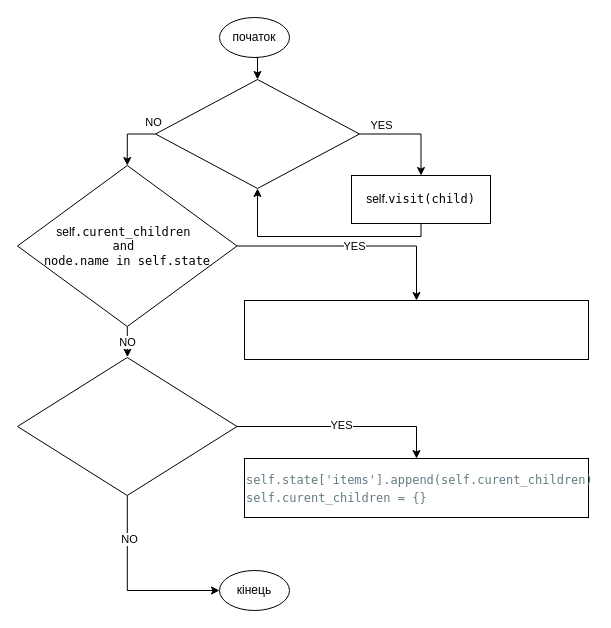
This 611x628 diagram has some shape labels left out. The shapes that lost their labels are listed below. From the top down, each one's centre as x and y in pixels, then its label:
At [257,133]: "node.children".
At [416,330]: "self.state[node.name] = self.curent_children self.curent_children = {}".
At [126,426]: "node.name == 'item'".
